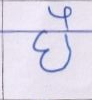ai_matra: (48, 6, 74, 30)
